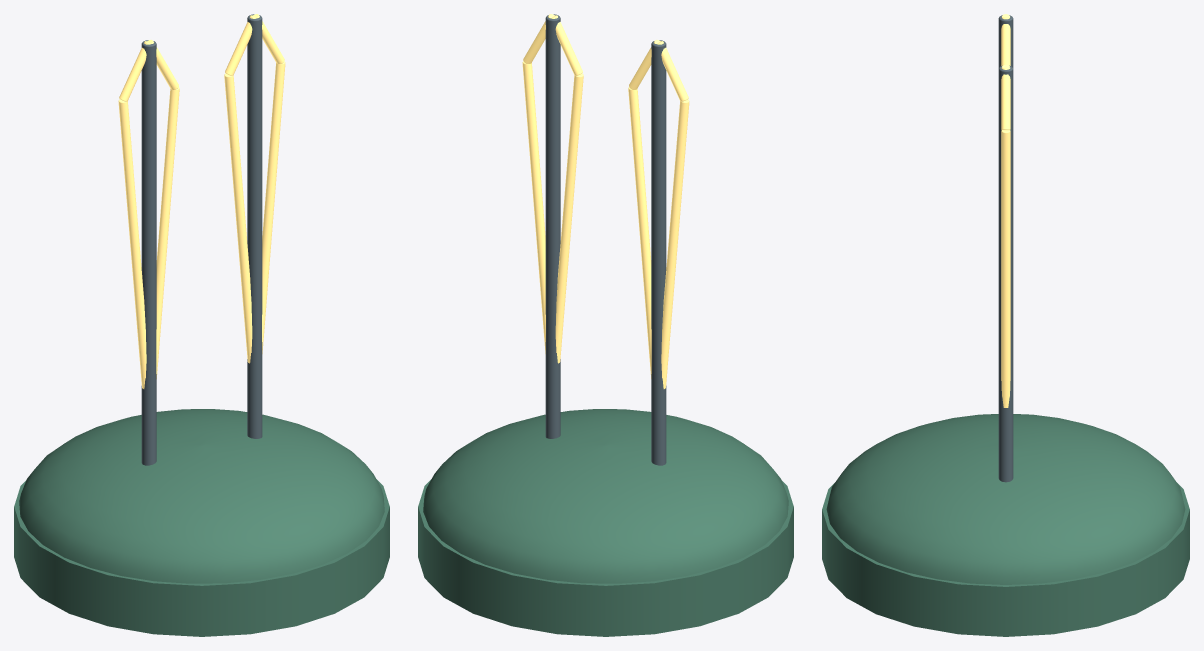
3 renders of one model, left to right at view 1: azimuth 30°, elevation 25°; view 2: azimuth 150°, elevation 25°; view 3: azimuth 270°, elevation 25°, orthographic. The views are drawn at different scales.
Parts seen in each view (by area): view 1: Shield generator low housing, Foundation drum, Shield emitter stem, Shield emitter stem.001, Shield emitter cage, Shield emitter cage.002, Shield emitter cage.001, Shield emitter cage.003, Shield cage crown, Shield cage crown.002; view 2: Shield generator low housing, Foundation drum, Shield emitter stem, Shield emitter stem.001, Shield emitter cage, Shield emitter cage.002, Shield emitter cage.001, Shield emitter cage.003, Shield cage crown, Shield cage crown.002; view 3: Shield generator low housing, Foundation drum, Shield emitter stem.001, Shield emitter cage.003, Shield cage crown.003.
Boxes of the visible parts, x1,y1,x2,y2 form: Shield generator low housing: [19, 409, 384, 583]; Foundation drum: [14, 479, 389, 636]; Shield emitter stem: [141, 40, 156, 465]; Shield emitter stem.001: [247, 14, 262, 438]; Shield emitter cage: [118, 99, 146, 388]; Shield emitter cage.002: [224, 73, 252, 363]; Shield emitter cage.001: [156, 87, 179, 378]; Shield emitter cage.003: [262, 61, 285, 353]; Shield cage crown: [119, 41, 150, 101]; Shield cage crown.002: [225, 15, 256, 75]; Shield generator low housing: [423, 409, 788, 583]; Foundation drum: [418, 479, 793, 636]; Shield emitter stem: [651, 40, 666, 465]; Shield emitter stem.001: [545, 14, 560, 438]; Shield emitter cage: [661, 99, 689, 388]; Shield emitter cage.002: [555, 73, 583, 363]; Shield emitter cage.001: [628, 87, 651, 378]; Shield emitter cage.003: [522, 61, 545, 353]; Shield cage crown: [657, 41, 688, 101]; Shield cage crown.002: [551, 15, 582, 75]; Shield generator low housing: [826, 414, 1185, 584]; Foundation drum: [822, 483, 1189, 636]; Shield emitter stem.001: [998, 65, 1013, 482]; Shield emitter cage.003: [1001, 130, 1010, 407]; Shield cage crown.003: [1001, 67, 1010, 130].
Bounding box in the file's own units: 2 × 3.11 × 2.
